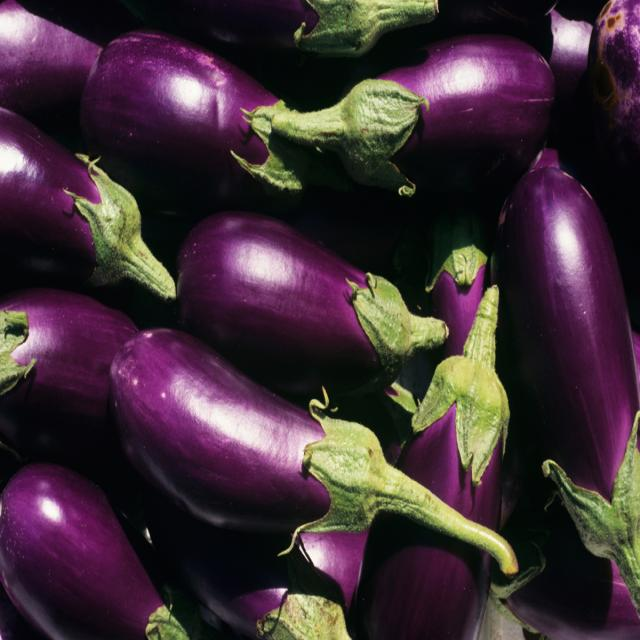eggplant: (496, 154, 639, 458), (148, 387, 397, 538), (82, 22, 276, 204), (195, 217, 411, 376), (346, 34, 552, 186), (0, 463, 151, 639), (0, 138, 141, 297), (0, 292, 115, 465)
